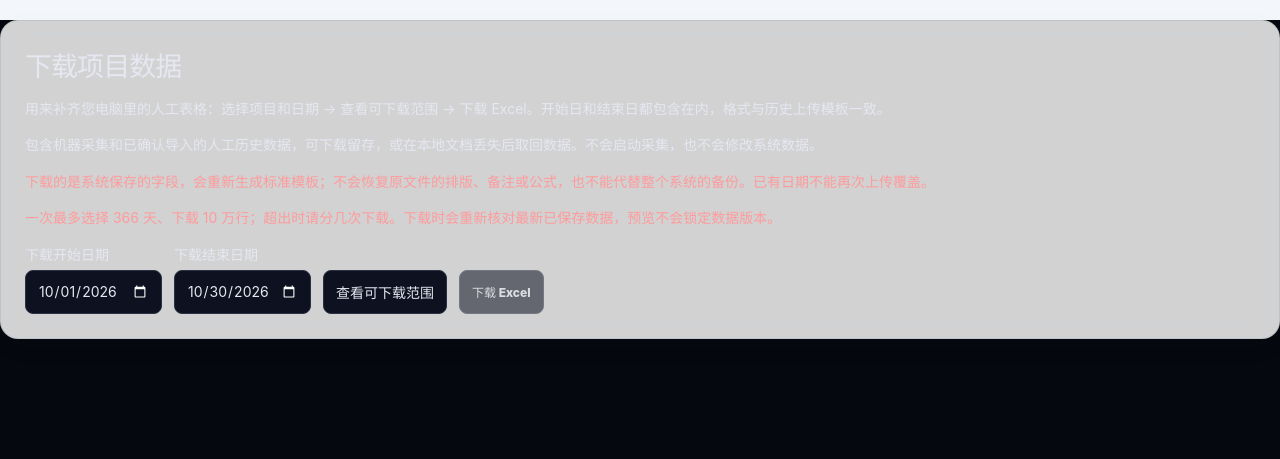
collected data export › blocks an empty eligible range and more than 366 days
This screenshot has width=1280, height=459.
Submit the form, box [25, 246, 544, 314]
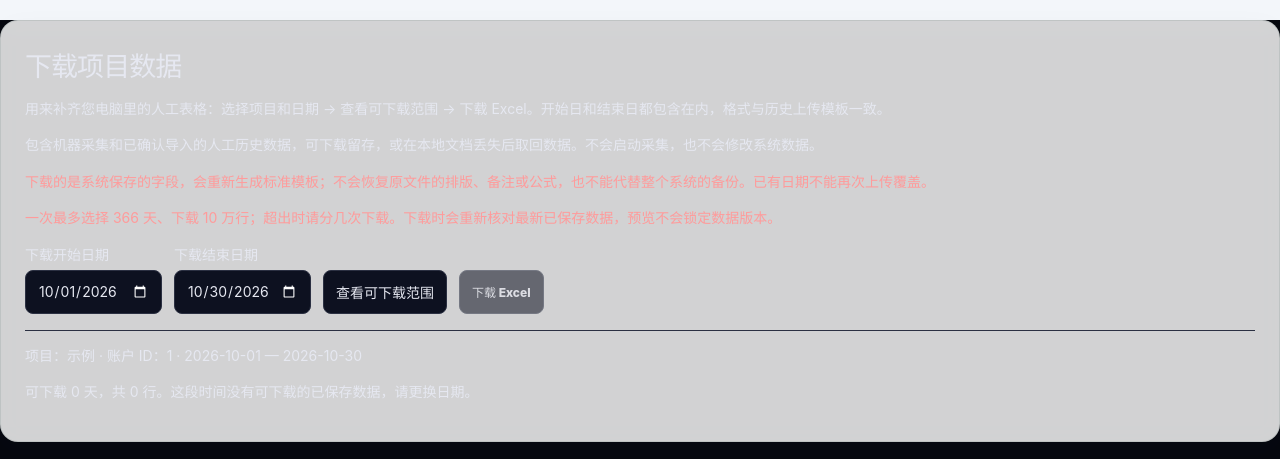
Expected: the button "下载 Excel" is disabled, [459, 270, 544, 314]
Type "2020-01-01" into the date field labelled "下载开始日期" at (94, 292), box [25, 270, 162, 314]
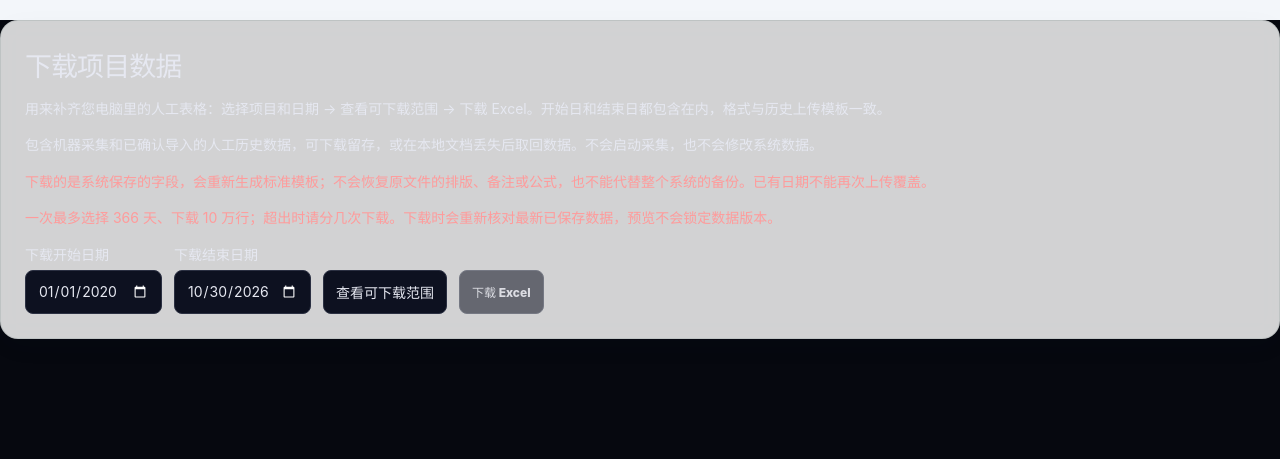
Submit the form, box [25, 246, 544, 314]
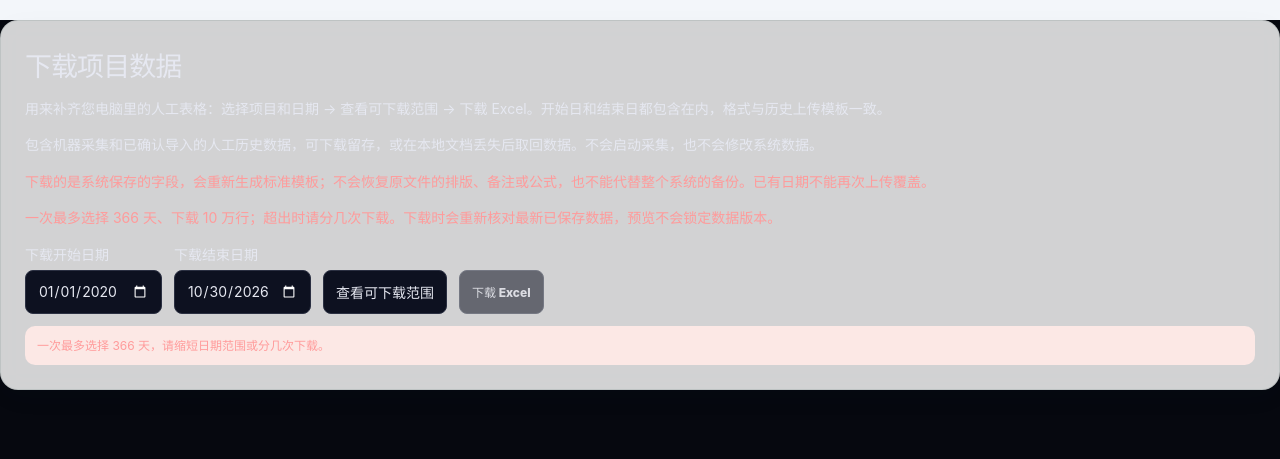
Now the text "请缩短日期范围" is shown, box [37, 338, 330, 353]
